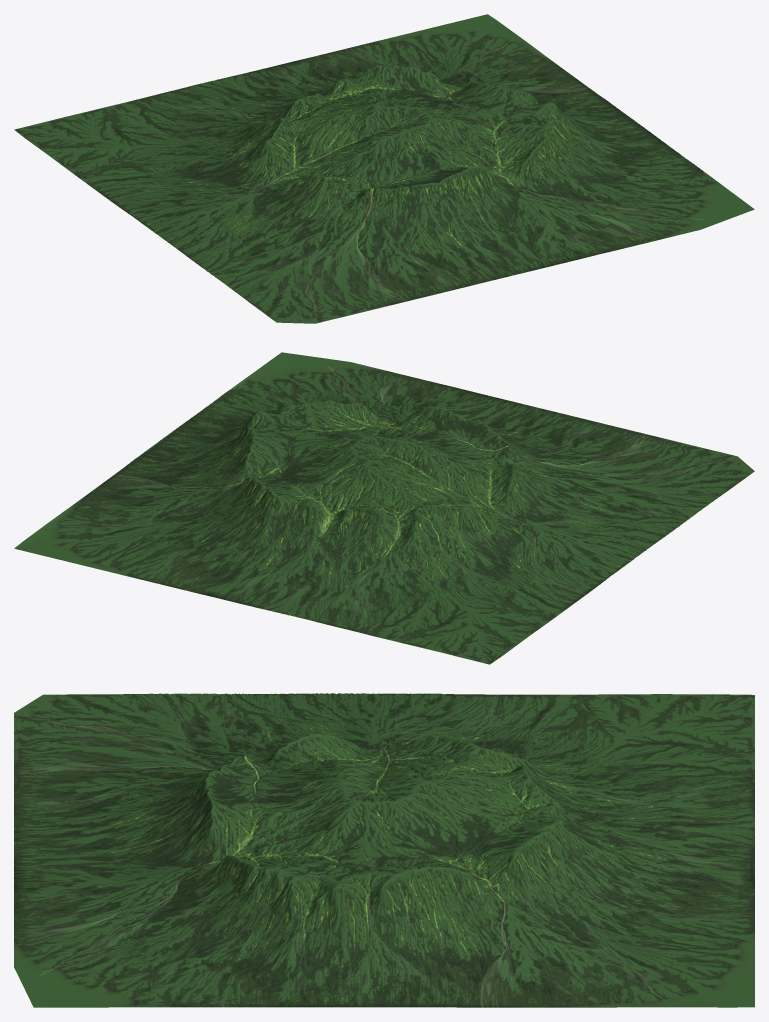
The model's file is mountain.obj.
3 renders of one model, top to bottom at view 1: azimuth 30°, elevation 25°; view 2: azimuth 150°, elevation 25°; view 3: azimuth 270°, elevation 25°, orthographic. The views are drawn at different scales.
Visible parts, largest first — view 1: Mesher_low_res; view 2: Mesher_low_res; view 3: Mesher_low_res.
Boxes of the visible parts, x1=… form: Mesher_low_res: x1=14, y1=14, x2=754, y2=323; Mesher_low_res: x1=14, y1=352, x2=754, y2=664; Mesher_low_res: x1=14, y1=693, x2=754, y2=1007.
Size of the model in its own units: 54.51 by 5.92 by 54.51.
Materials: 1 (1 with a texture image).
